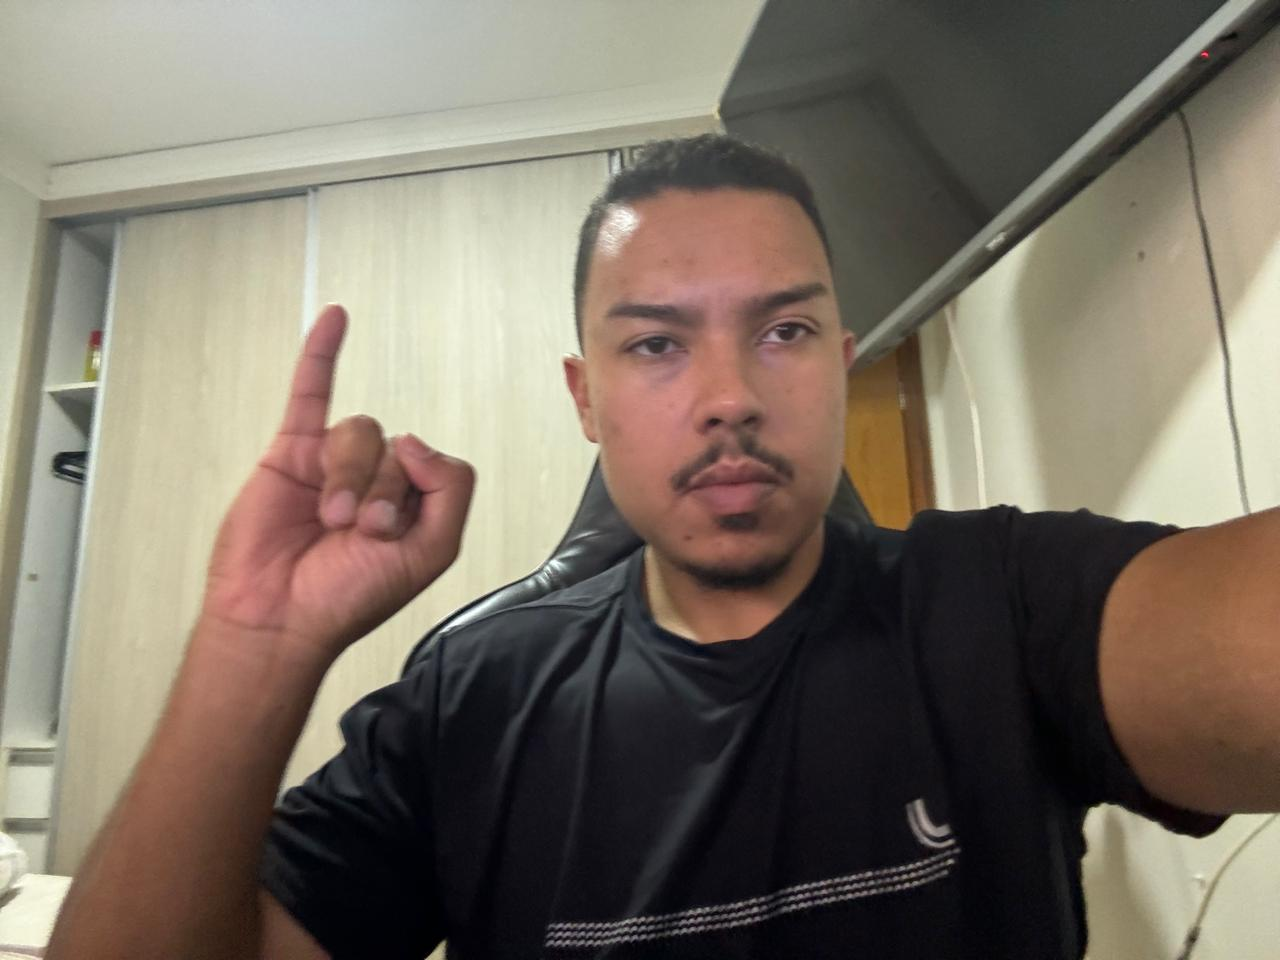i: (193, 291, 477, 651)
